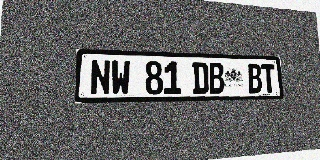1: (163, 61, 181, 94)
8: (145, 61, 163, 95)
B: (208, 62, 225, 94), (247, 64, 263, 93)
D: (192, 62, 209, 94)
N: (90, 59, 111, 95)
T: (261, 64, 276, 93)
W: (111, 60, 130, 95)
